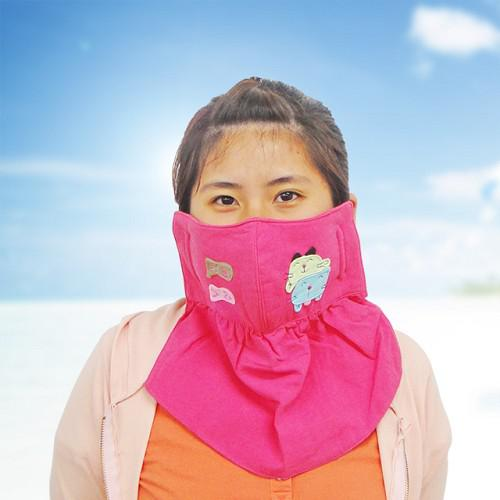OK: (193, 171, 337, 321)
